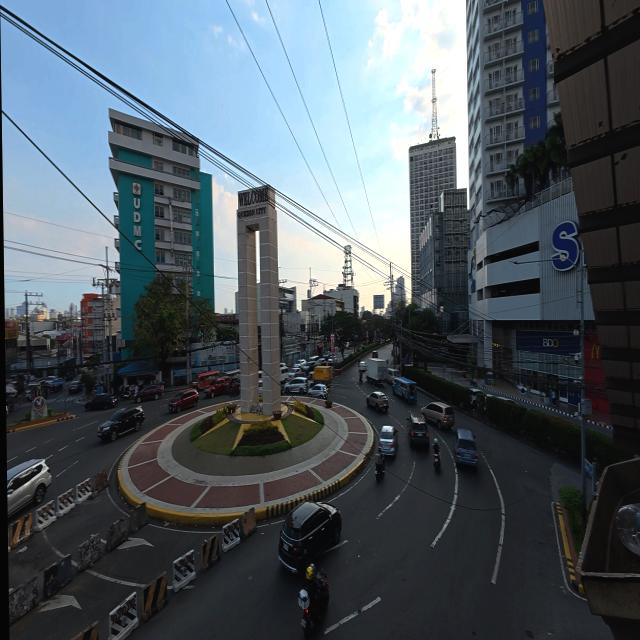Jeepneys: (192, 369, 222, 392), (393, 378, 416, 403)
car: (279, 501, 341, 574), (7, 459, 51, 515), (97, 406, 144, 441), (454, 429, 478, 467), (422, 403, 454, 430), (406, 414, 430, 448), (169, 389, 199, 412), (379, 426, 398, 456), (85, 394, 118, 410), (205, 377, 230, 398), (136, 384, 163, 403), (366, 390, 389, 412), (284, 377, 309, 394), (308, 384, 328, 399), (470, 388, 483, 408), (387, 368, 401, 384), (495, 396, 516, 405), (69, 380, 83, 393), (288, 367, 301, 380), (301, 363, 314, 374), (327, 355, 337, 365), (294, 360, 306, 367), (65, 373, 75, 381), (359, 361, 366, 372), (315, 358, 325, 365), (259, 378, 263, 392), (323, 352, 331, 359), (372, 351, 378, 358), (280, 363, 287, 368), (345, 342, 350, 349), (6, 406, 9, 416)
motorcycle: (299, 570, 329, 638), (375, 454, 384, 482), (434, 452, 440, 471), (121, 391, 133, 399), (470, 376, 477, 385), (360, 372, 363, 384)
trucks: (366, 358, 387, 384), (313, 366, 332, 386)
vans: (387, 369, 401, 384), (280, 364, 289, 383), (308, 356, 319, 365)
